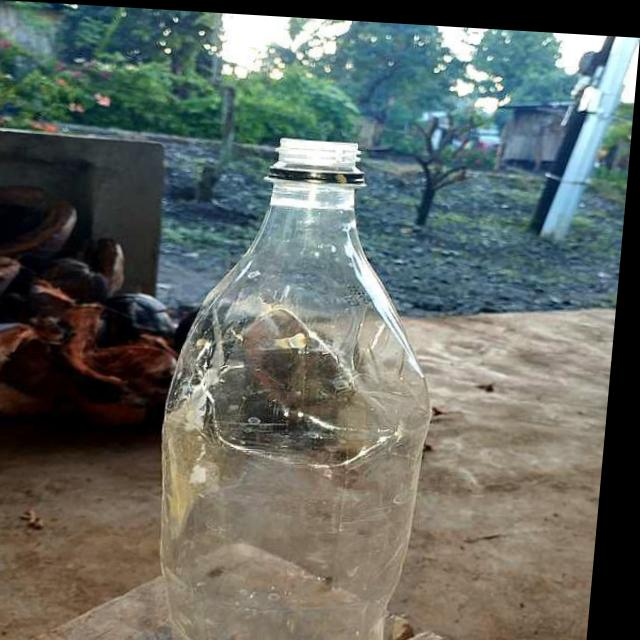Non-biodegradable: (153, 130, 463, 640)
